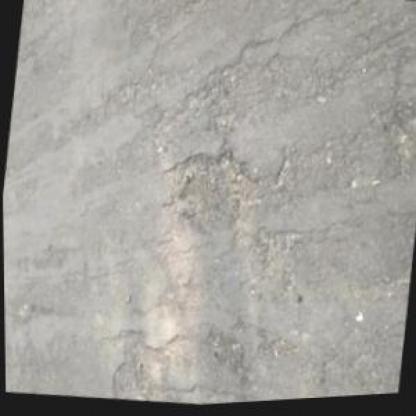pothole: (161, 143, 263, 248), (376, 99, 414, 184)
